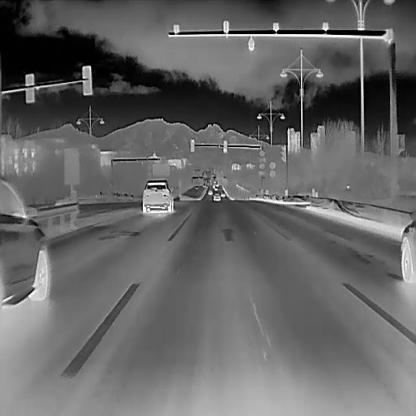car: (0, 176, 47, 309), (140, 178, 173, 213), (214, 192, 221, 200), (220, 191, 226, 197), (207, 190, 213, 195), (202, 182, 206, 188), (194, 185, 198, 190), (214, 185, 218, 190)
